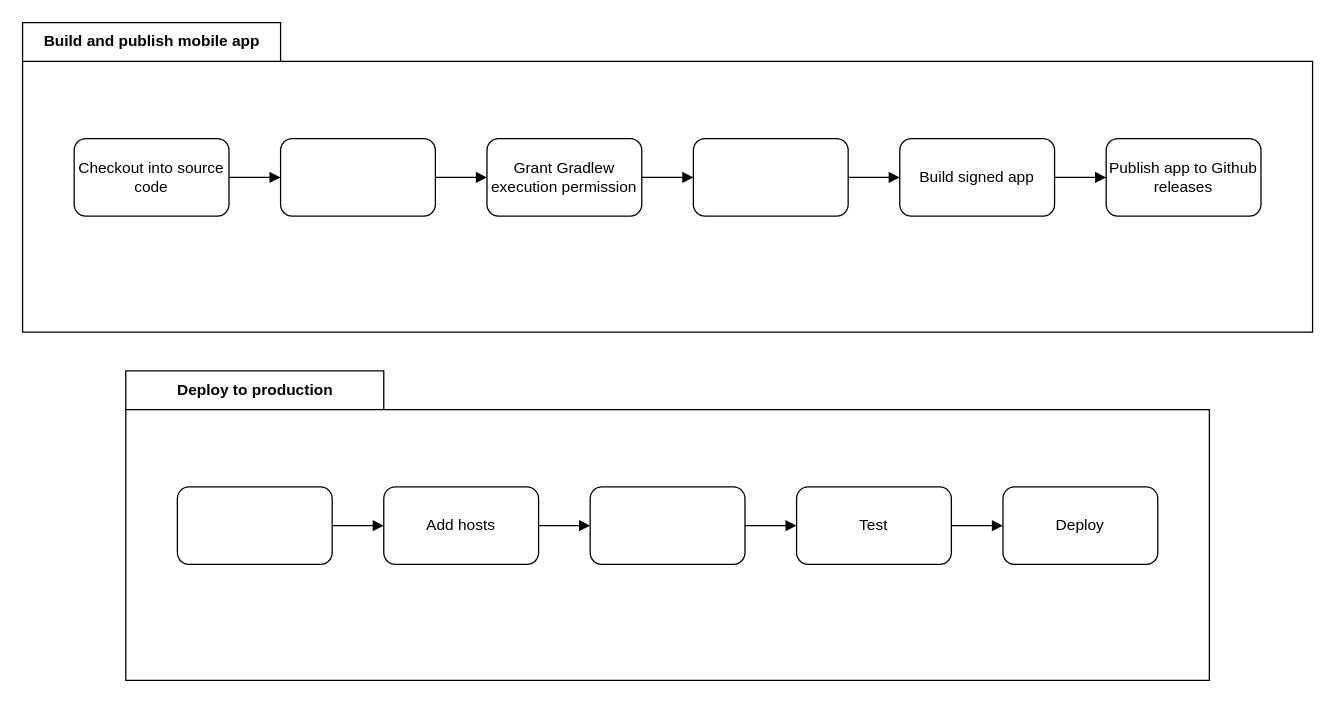
Image size: 1335x703. Some labels were removed from this diagram. Each missing label, with the box of its shape:
Create signing key: (692, 137, 848, 216)
Enable SSH: (176, 486, 332, 564)
Pull: (589, 486, 745, 564)
Set up Java: (279, 137, 435, 216)
